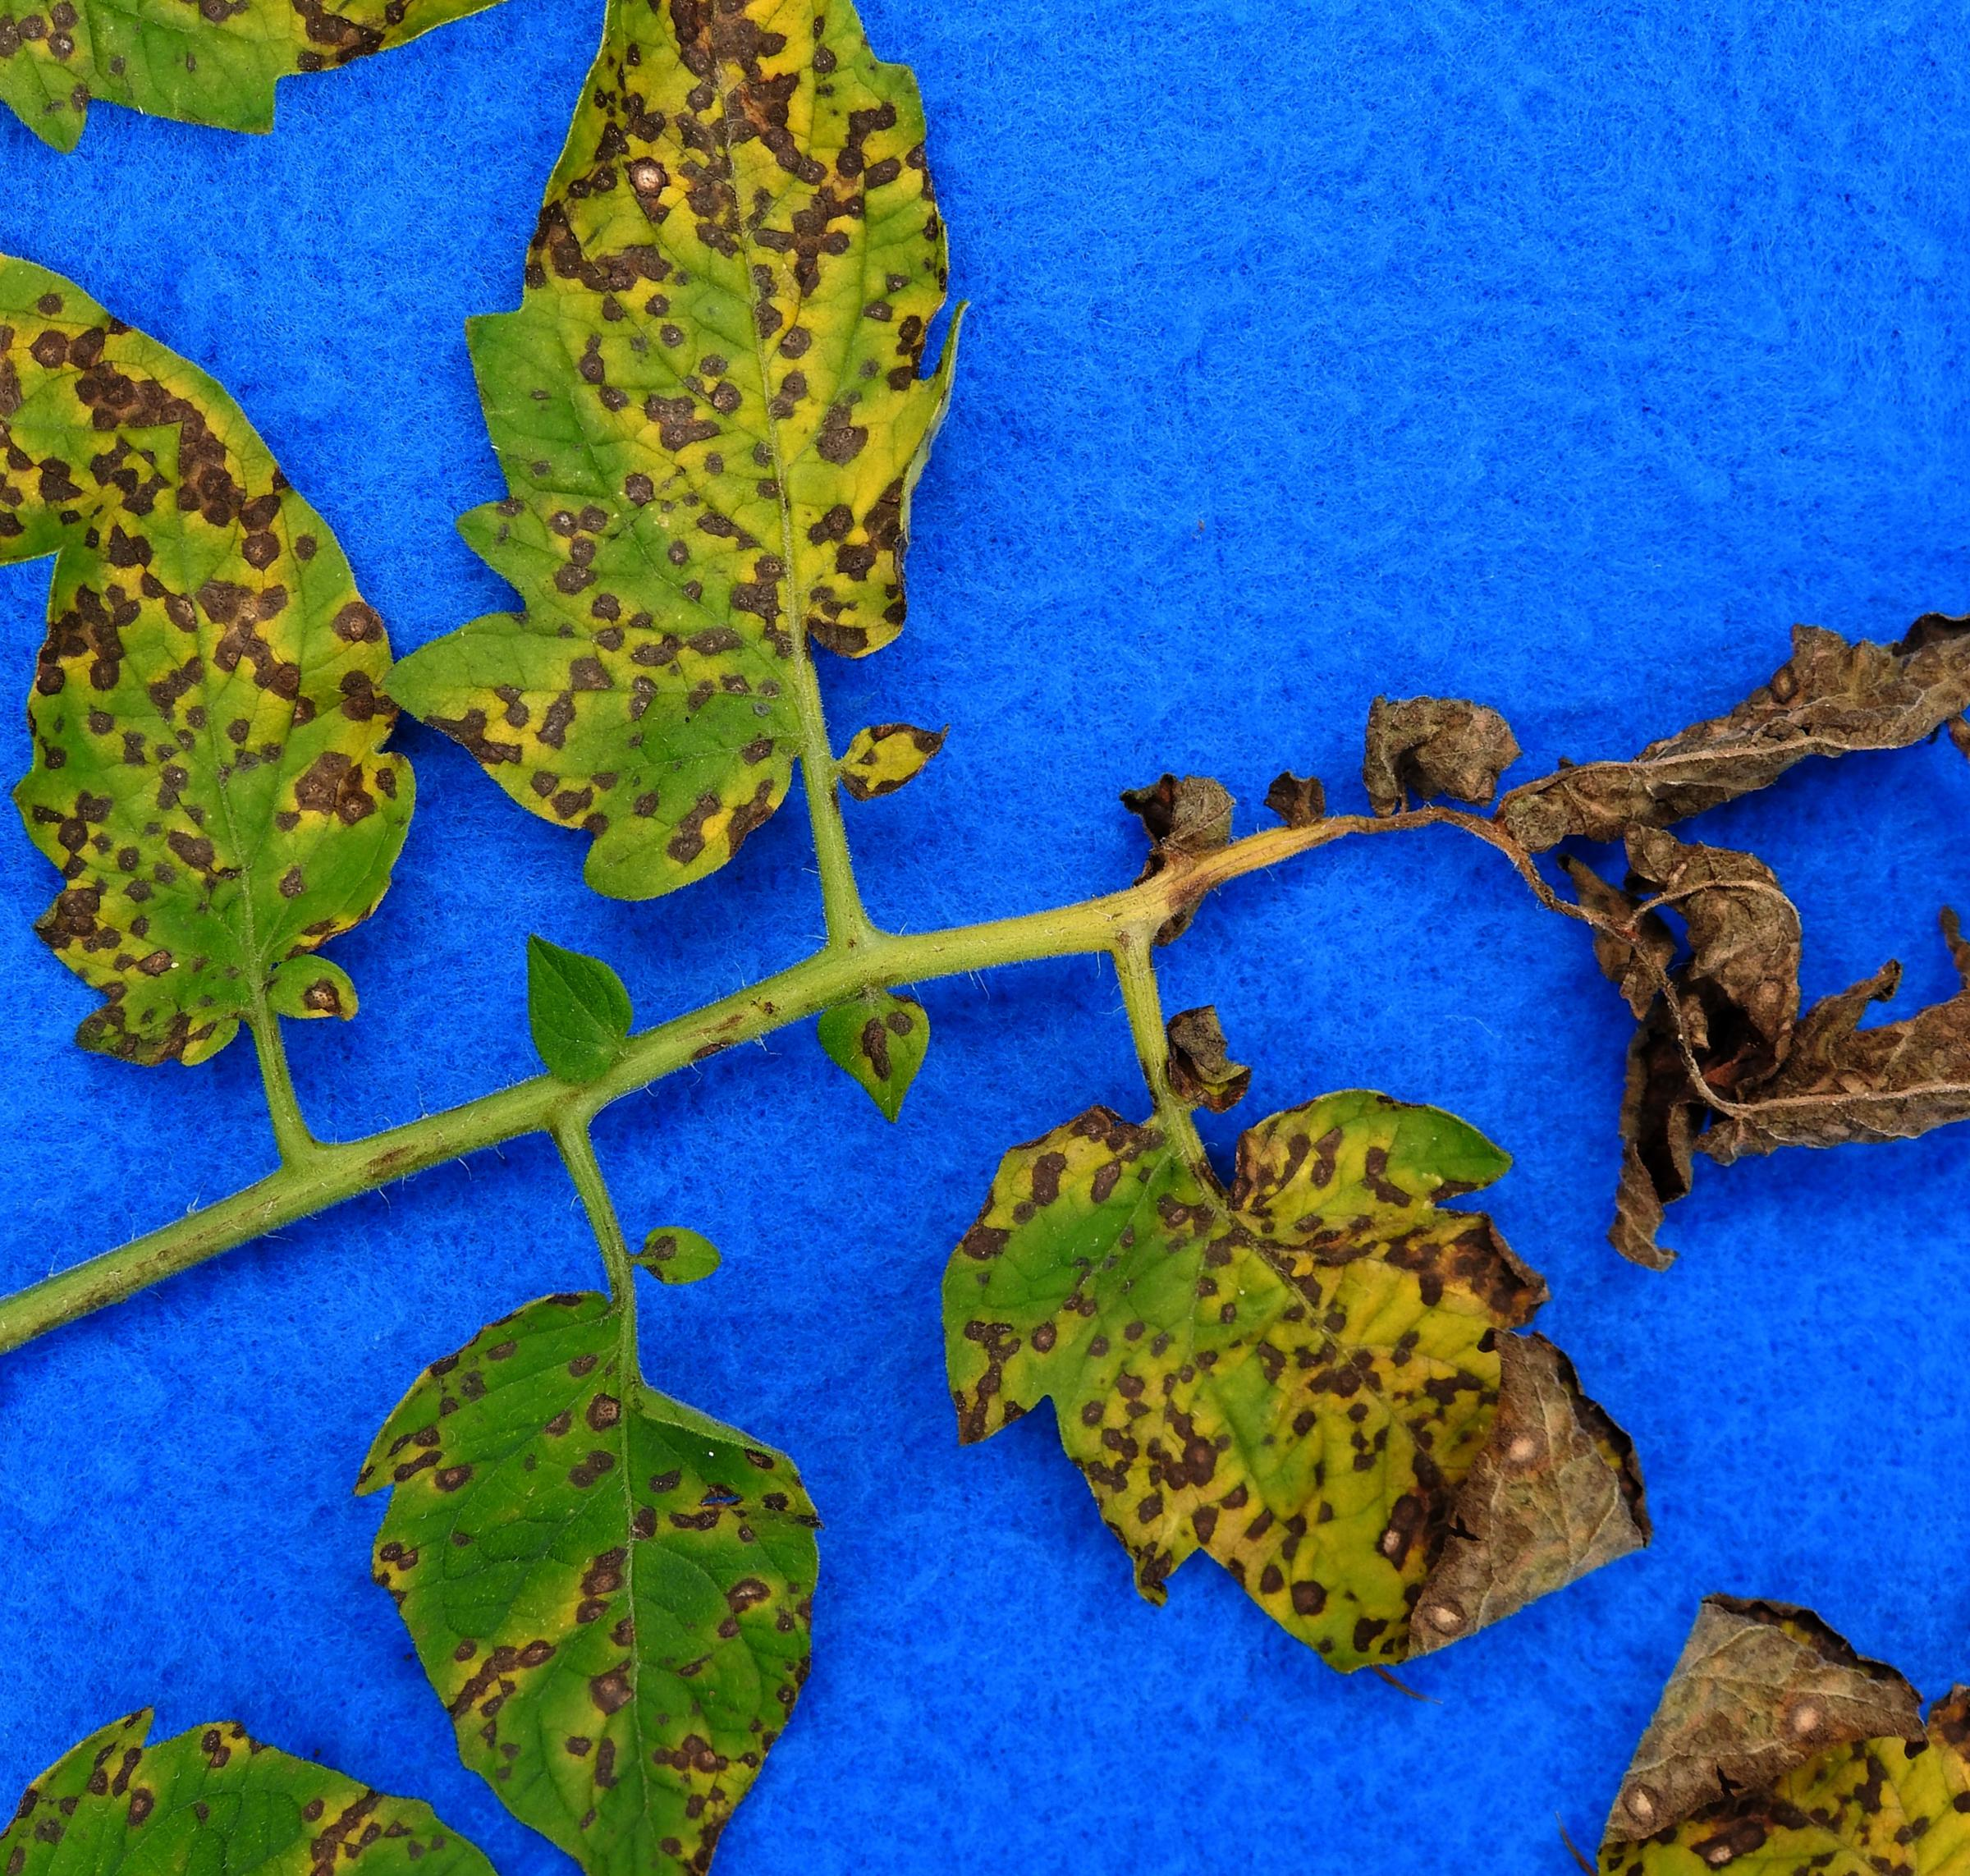Tomato Septoria leaf spot: (148, 0, 1353, 980), (846, 871, 1840, 1858), (185, 1167, 1052, 1876), (0, 387, 609, 1165)
